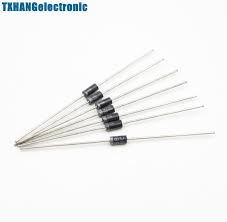diode: (100, 133, 143, 161)
